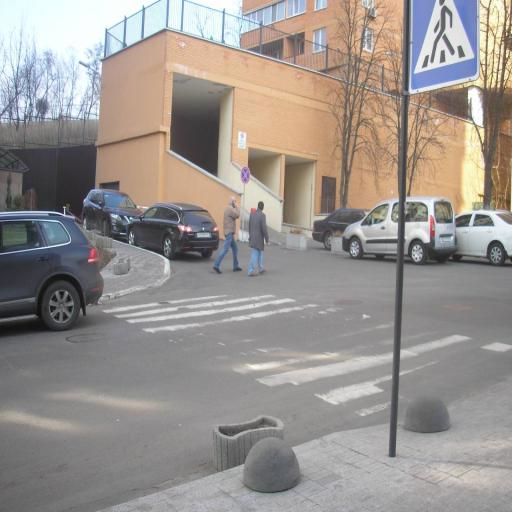book: (0, 211, 104, 331), (127, 203, 219, 259)
chair: (103, 293, 512, 416)
crosswalk: (212, 196, 242, 274), (248, 201, 269, 276)
